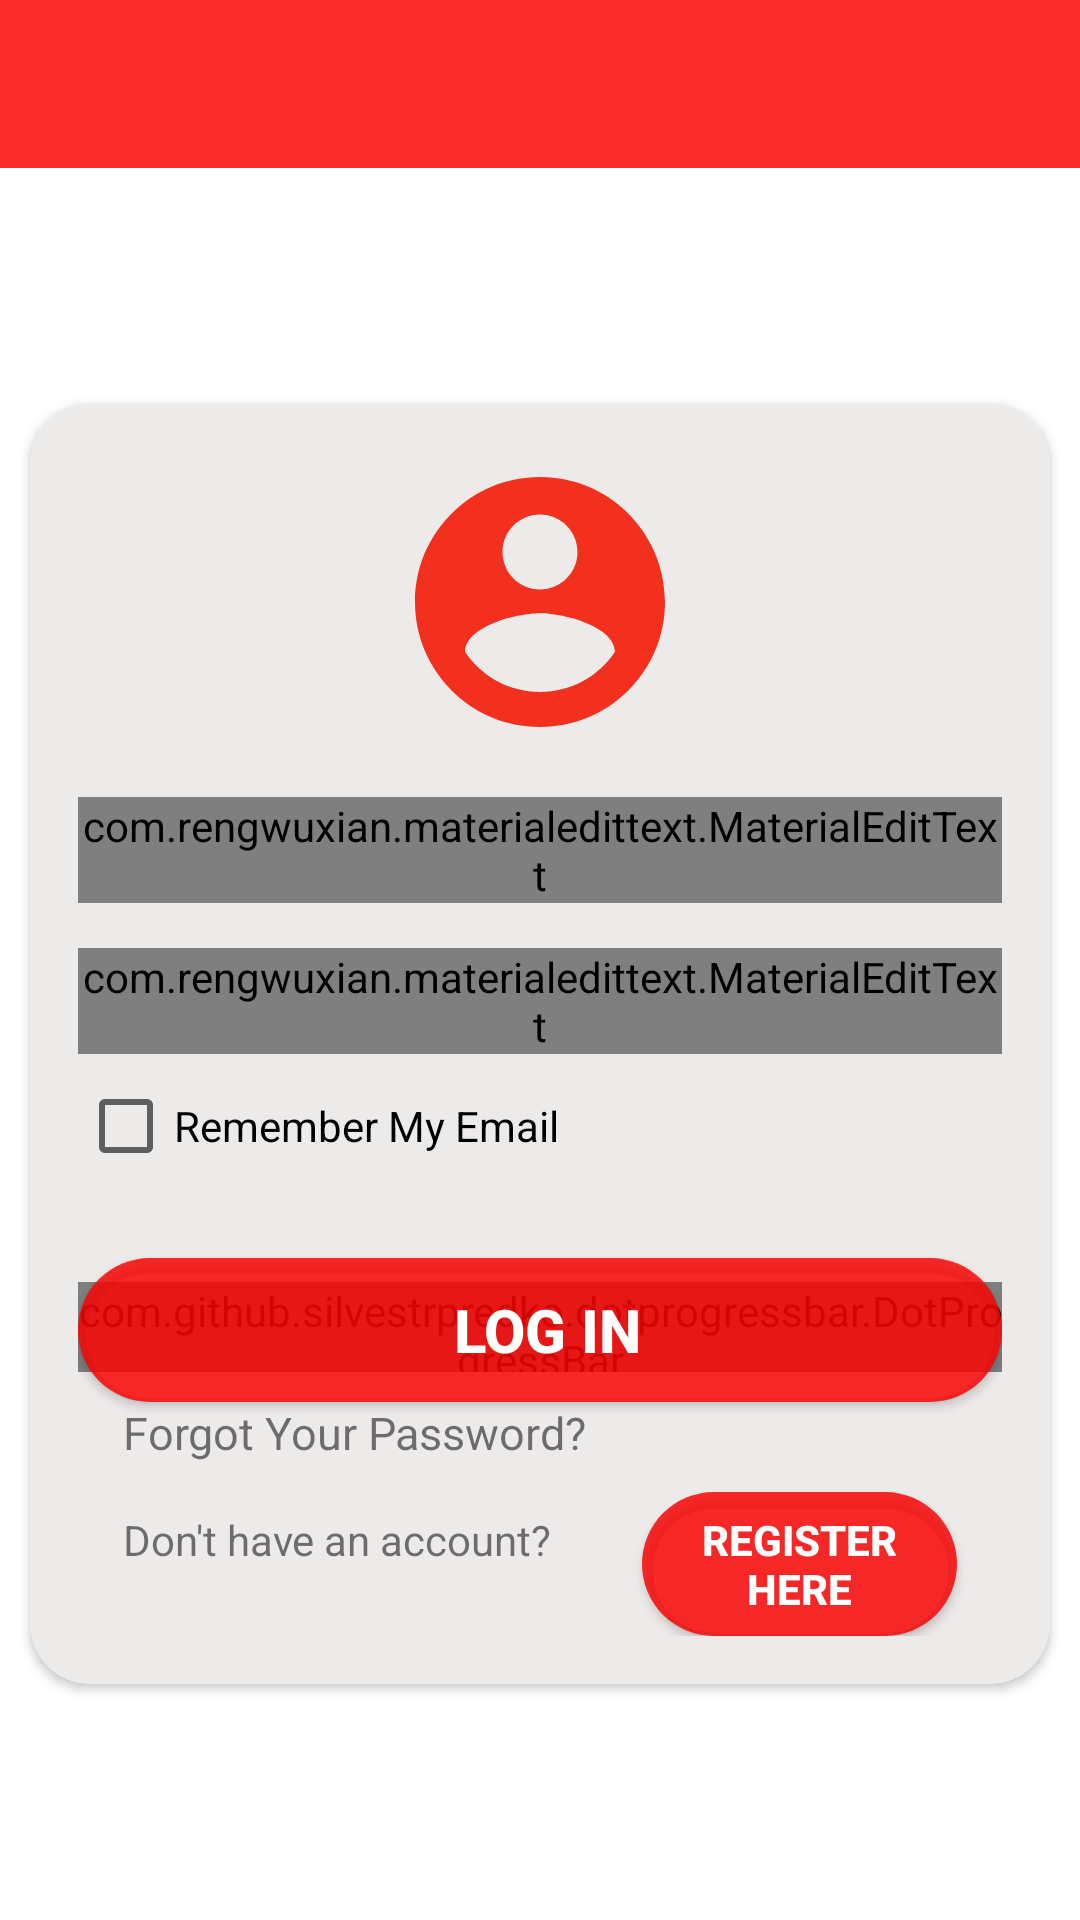

Where to tap for icons on this 1080 x 1920 app screen, as point (x, y):
account circle: point (540, 602)
